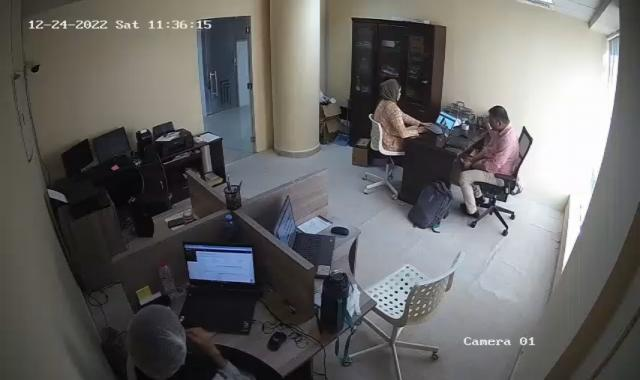hairnet: (123, 301, 188, 380)
no_hairnet: (487, 104, 510, 134), (378, 78, 404, 104)
